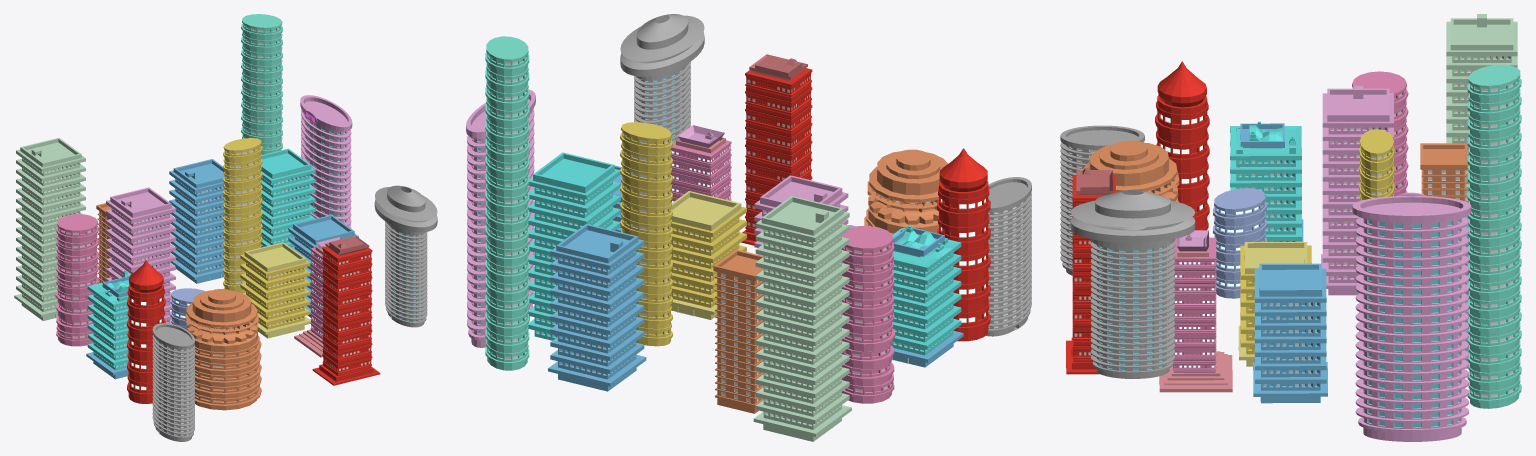
The model's file is New buidingds.fbx.
3 renders of one model, left to right at view 1: azimuth 30°, elevation 25°; view 2: azimuth 150°, elevation 25°; view 3: azimuth 270°, elevation 25°, orthographic. The views are drawn at different scales.
Visible parts, largest first — view 1: Circle.004, Plane.006, Circle.008, Plane 22222222.002, Circle.003, Circle.006, Plane.014, Circle, Circle.001, Circle.007, Plane.001, Plane.010 (+16 smaller); view 2: Plane.006, Circle.003, Plane.010, Circle, Circle.001, Plane 22222222.002, Circle.008, Circle.005, Plane.024, Plane.014, Plane.037, Plane.022 (+15 smaller); view 3: Circle.006, Circle.003, Circle.008, Plane.017, Plane.001, Circle.005, Plane.024, Plane 22222222.001, Circle.002, Circle.004, Circle.007, Plane.006 (+15 smaller).
Part boxes in pixels (x1,y1,x2,y2): Circle.004: (185, 289, 261, 410); Plane.006: (16, 149, 85, 311); Circle.008: (374, 185, 437, 327); Plane 22222222.002: (322, 246, 372, 376); Circle.003: (241, 14, 282, 154); Circle.006: (300, 95, 352, 228); Plane.014: (240, 242, 310, 338); Circle: (223, 138, 262, 293); Circle.001: (55, 214, 98, 346); Circle.007: (152, 323, 194, 441); Plane.001: (106, 200, 175, 323); Plane.010: (169, 170, 224, 274); Plane.006: (755, 211, 849, 429); Circle.003: (485, 36, 529, 370); Plane.010: (550, 239, 644, 379); Circle: (620, 122, 672, 346); Circle.001: (842, 226, 895, 403); Plane 22222222.002: (745, 68, 812, 233); Circle.008: (620, 14, 704, 143); Circle.005: (937, 148, 990, 341); Plane.024: (891, 225, 961, 355); Plane.014: (671, 191, 746, 319); Plane.037: (713, 249, 763, 413); Plane.022: (528, 169, 620, 340); Circle.006: (1352, 192, 1471, 441); Circle.003: (1467, 64, 1521, 408); Circle.008: (1070, 190, 1195, 378); Plane.017: (1254, 268, 1326, 390); Plane.001: (1322, 93, 1393, 282); Circle.005: (1155, 61, 1209, 237); Plane.024: (1230, 121, 1301, 241); Plane 22222222.001: (1173, 237, 1216, 372); Circle.002: (1213, 188, 1266, 298); Circle.004: (1082, 140, 1179, 202); Circle.007: (1060, 125, 1144, 275); Plane.006: (1446, 21, 1517, 202).
Bounding box in the file's own units: 2282 × 1867 × 2223.
